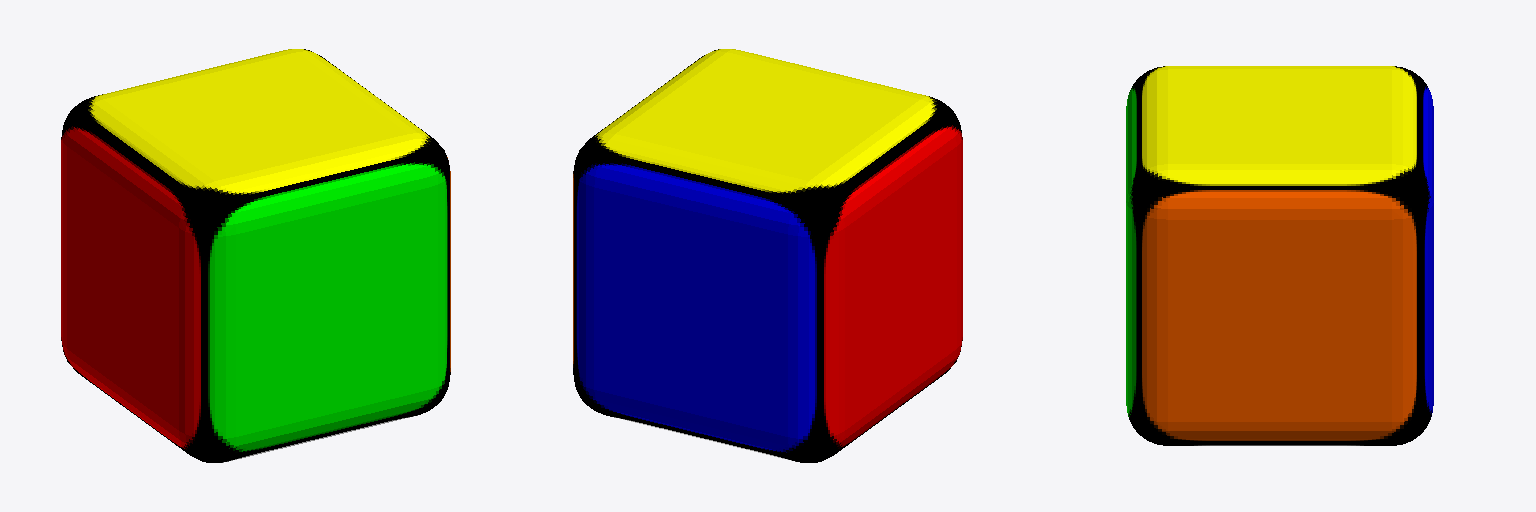
3 views of the same model, side by side, from view 1: azimuth 30°, elevation 25°; view 2: azimuth 150°, elevation 25°; view 3: azimuth 270°, elevation 25° (orthographic).
Visible parts, largest first — view 1: Cube.008_Cube.042; view 2: Cube.008_Cube.042; view 3: Cube.008_Cube.042.
Part boxes in pixels (x1,y1,x2,y2): Cube.008_Cube.042: (61,49,450,462); Cube.008_Cube.042: (573,49,962,462); Cube.008_Cube.042: (1126,66,1433,445).
Bounding box in the file's own units: 2 × 2 × 2.
Materials: 1 (1 with a texture image).